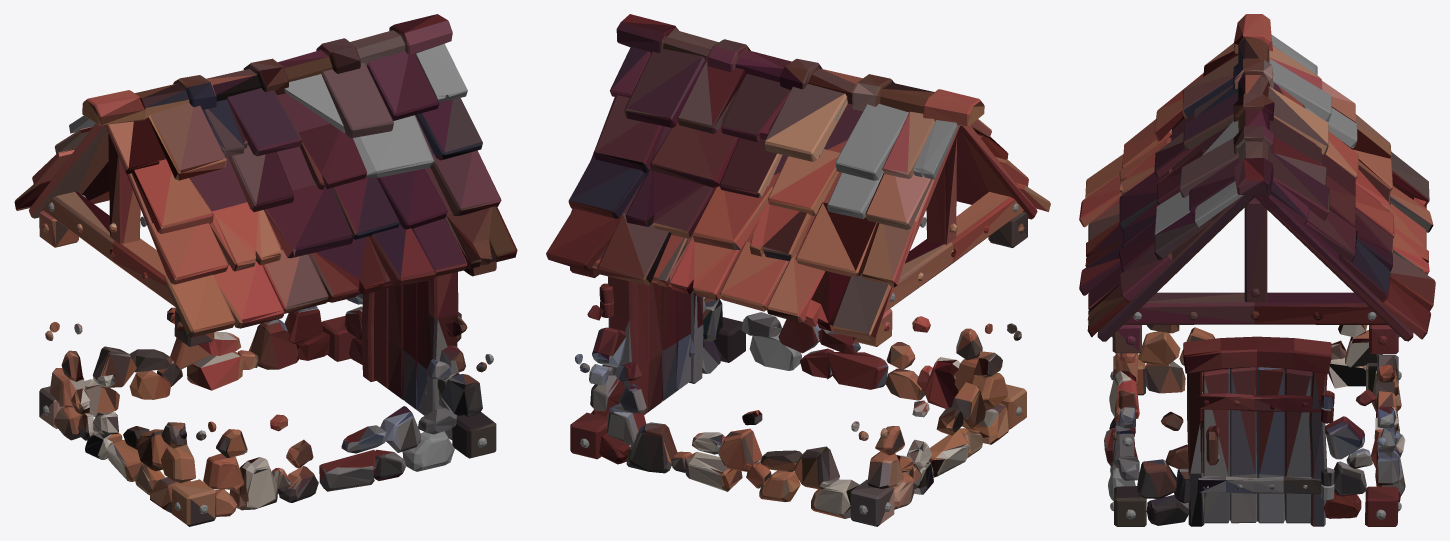
File: Barn_Coop.glb
3 renders of one model, left to right at view 1: azimuth 30°, elevation 25°; view 2: azimuth 150°, elevation 25°; view 3: azimuth 270°, elevation 25°, orthographic. The views are drawn at different scales.
Parts seen in each view (by area): view 1: world; view 2: world; view 3: world.
Part boxes in pixels (bbox=[...]): world: bbox=[14, 14, 517, 526]; world: bbox=[546, 14, 1050, 526]; world: bbox=[1079, 14, 1435, 526].
Bounding box in the file's own units: 0.9785 × 0.998 × 0.8965.
